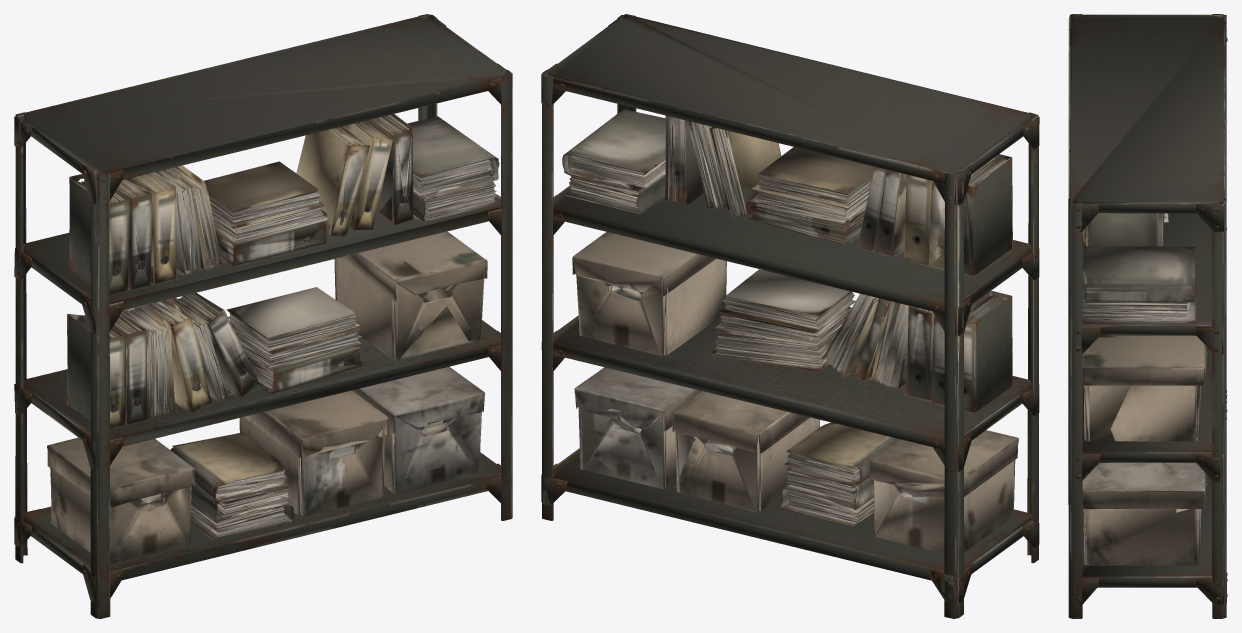
The model's file is silo81_file_shelf.glb.
3 views of the same model, side by side, from view 1: azimuth 30°, elevation 25°; view 2: azimuth 150°, elevation 25°; view 3: azimuth 270°, elevation 25° (orthographic). The views are drawn at different scales.
Size of the model in its own units: 0.9434 by 0.9546 by 0.332.
1 material, 1 textured.
